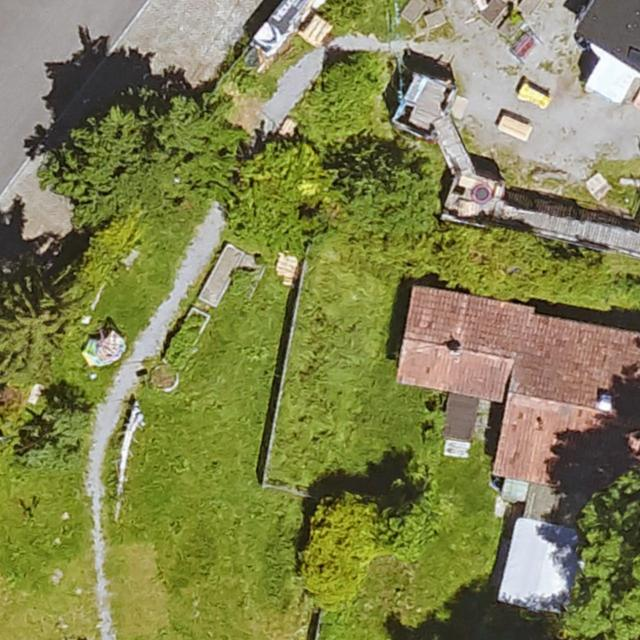tree: (41, 107, 161, 219), (219, 148, 336, 254), (134, 93, 241, 197), (291, 501, 382, 607), (0, 260, 82, 369), (330, 170, 442, 249), (427, 231, 547, 298), (578, 462, 640, 583), (365, 483, 451, 563), (551, 575, 640, 640), (19, 435, 83, 475), (48, 402, 97, 445)
